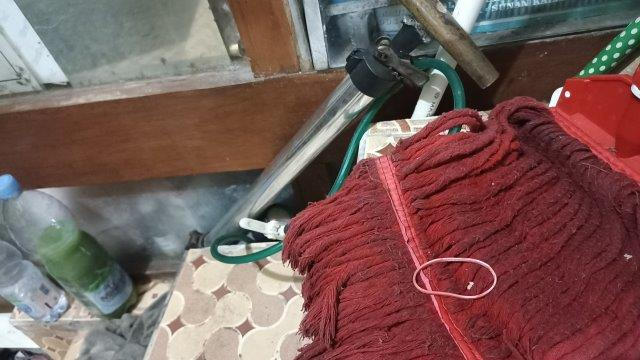karet: (413, 257, 498, 298)
